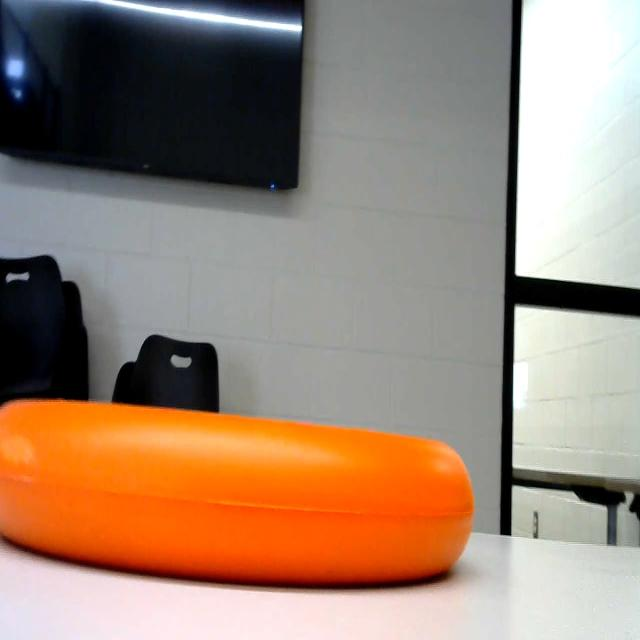note: (0, 385, 478, 590)
